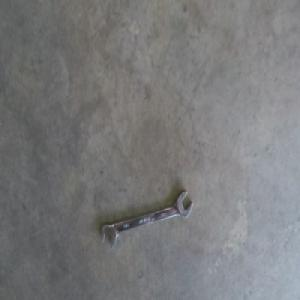Wrench: (100, 192, 192, 253)
